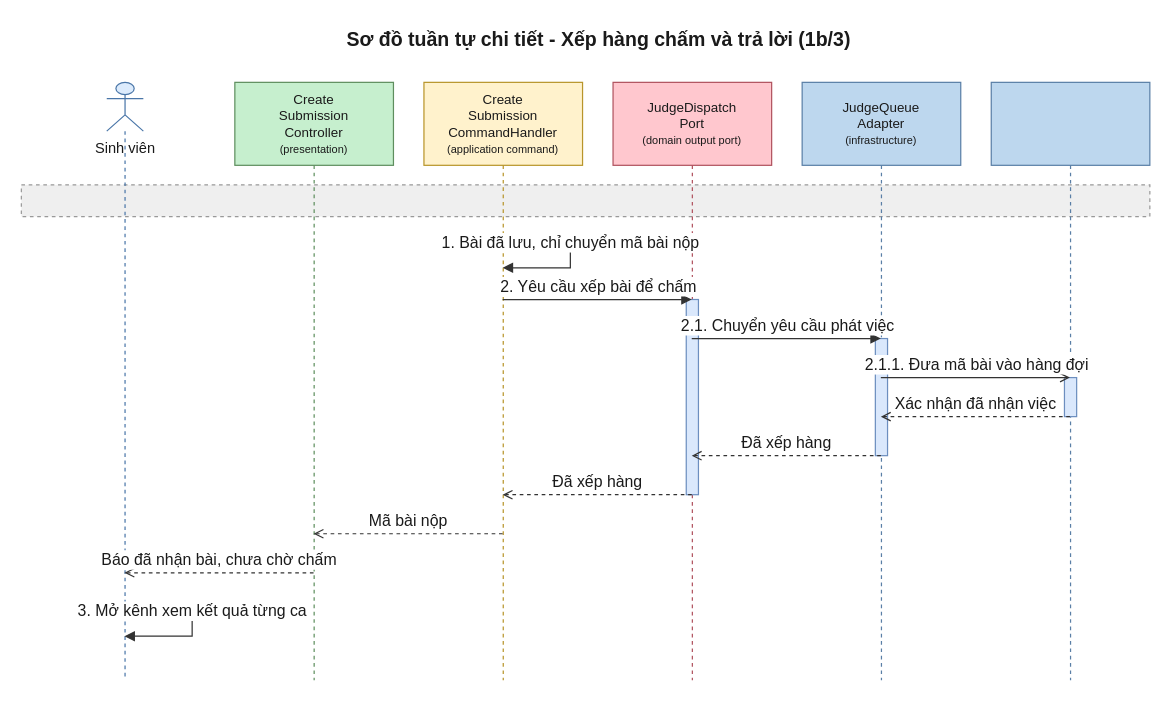
Image size: 1171x702. Some labels were removed from this diagram. The shapes that lost their labels are listed below. From the top down, each one's centre as x and y in pixels, then its label:
the point at 585,200: Giai đoạn 2 - Đưa bài đã lưu vào hàng đợi (F4-01)
the point at 1070,380: RabbitMQ (hàng đợi chấm)
